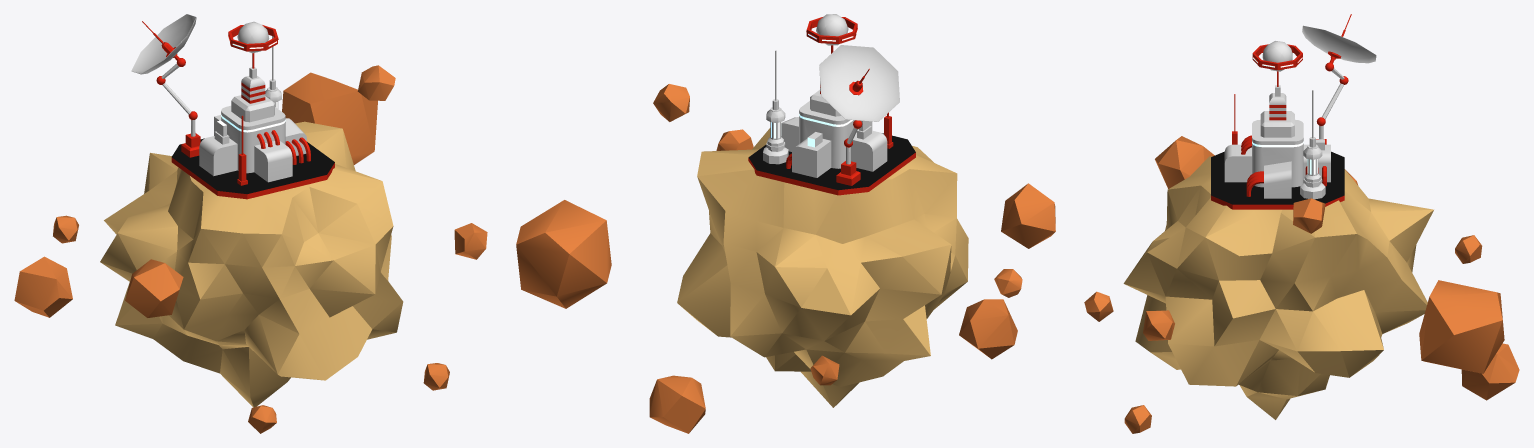
3 renders of one model, left to right at view 1: azimuth 30°, elevation 25°; view 2: azimuth 150°, elevation 25°; view 3: azimuth 270°, elevation 25°, orthographic. The views are drawn at different scales.
Visible parts, largest first — view 1: Asteroid Large, Rocks, Building, Platform, Saucer, Tower, Ring, Pipes, Ring 2, Ball; view 2: Asteroid Large, Rocks, Building, Saucer, Platform, Relay, Ring, Ring 2, Ball; view 3: Asteroid Large, Rocks, Building, Platform, Saucer, Tower, Relay, Ring 2, Ball, Ring, Pipes.
Boxes of the visible parts, box(x1,y1,x2,y2) form: Asteroid Large: box(100, 121, 403, 407); Rocks: box(14, 65, 487, 433); Building: box(199, 105, 306, 182); Platform: box(172, 138, 334, 194); Saucer: box(131, 14, 196, 74); Tower: box(231, 67, 274, 122); Ring: box(171, 157, 334, 199); Pipes: box(257, 130, 310, 164); Ring 2: box(228, 25, 278, 51); Ball: box(237, 21, 269, 53); Asteroid Large: box(677, 128, 968, 407); Rocks: box(516, 84, 1055, 433); Building: box(781, 101, 887, 177); Saucer: box(819, 45, 899, 121); Platform: box(748, 133, 915, 190); Relay: box(763, 50, 788, 164); Ring: box(748, 152, 915, 195); Ring 2: box(806, 17, 857, 43); Ball: box(816, 14, 848, 45); Asteroid Large: box(1123, 156, 1433, 419); Rocks: box(1084, 136, 1519, 433); Building: box(1224, 119, 1330, 198); Platform: box(1211, 151, 1344, 204); Saucer: box(1302, 25, 1376, 63); Tower: box(1260, 85, 1294, 137); Relay: box(1300, 90, 1325, 199); Ring 2: box(1252, 44, 1302, 70); Ball: box(1262, 41, 1292, 71); Ring: box(1211, 195, 1344, 209); Pipes: box(1241, 135, 1326, 196).
Bounding box in the file's own units: 0.1857 × 0.1614 × 0.1683.
